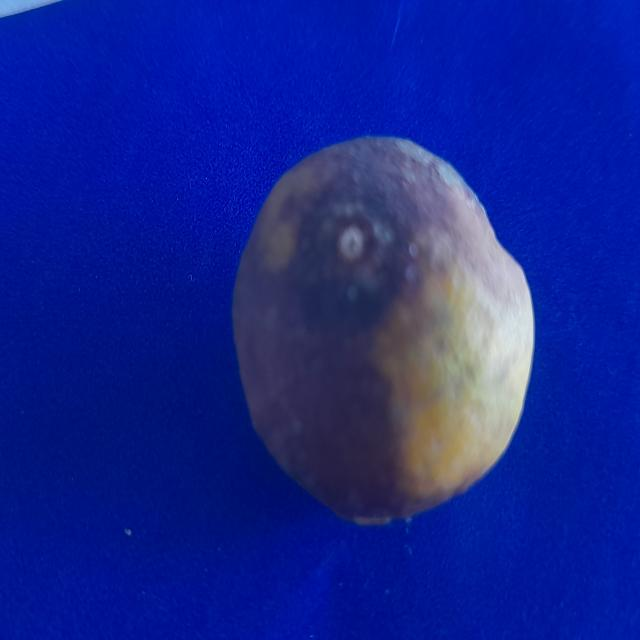black spot: (230, 135, 544, 552)
